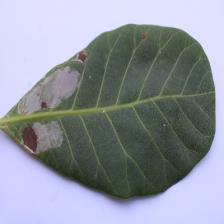leaf miner: (0, 22, 216, 200)
